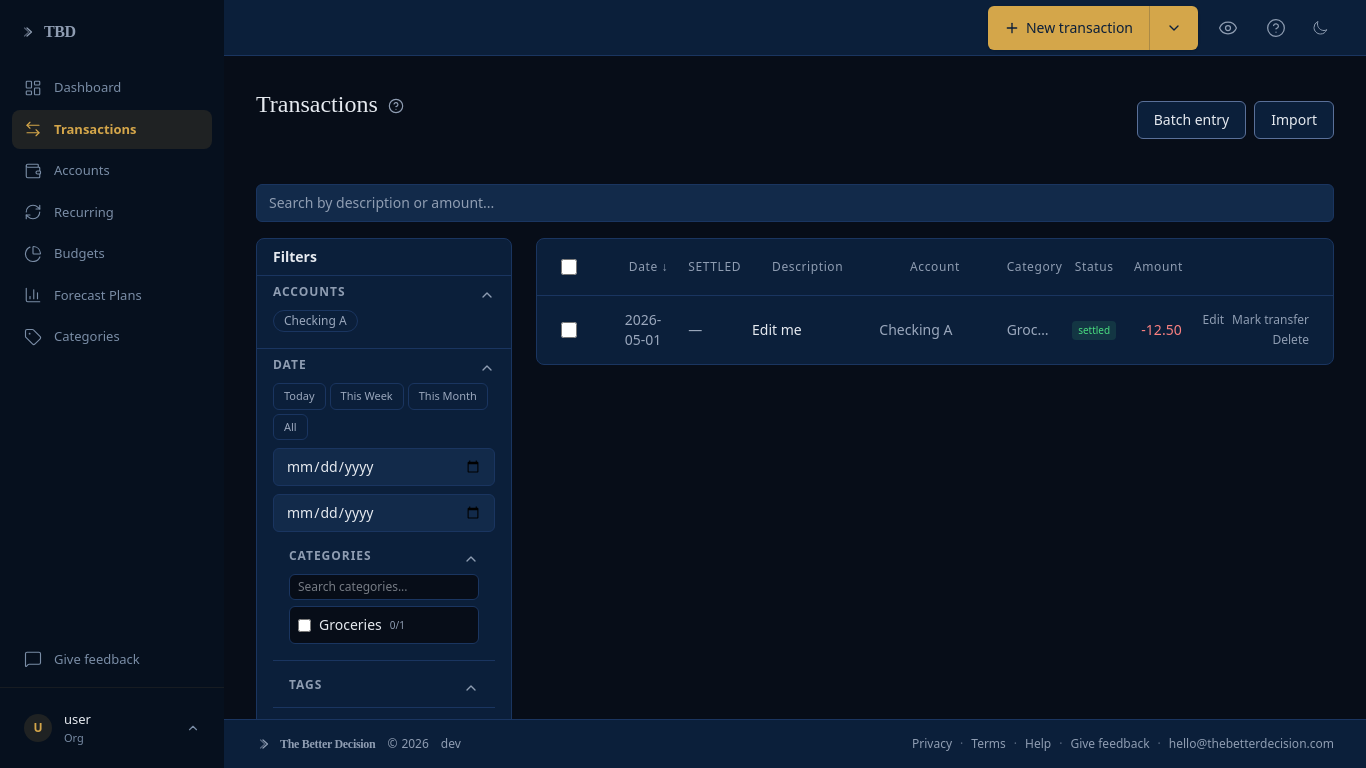
TransactionsPage - edit row layout (Punch-list Item 7) › desktop edit form renders all 7 inputs as labeled fields, not a clipped 12-col row
Click the button with aria-label "Edit:": {"x": 1213, "y": 320} [1203, 312, 1224, 328]
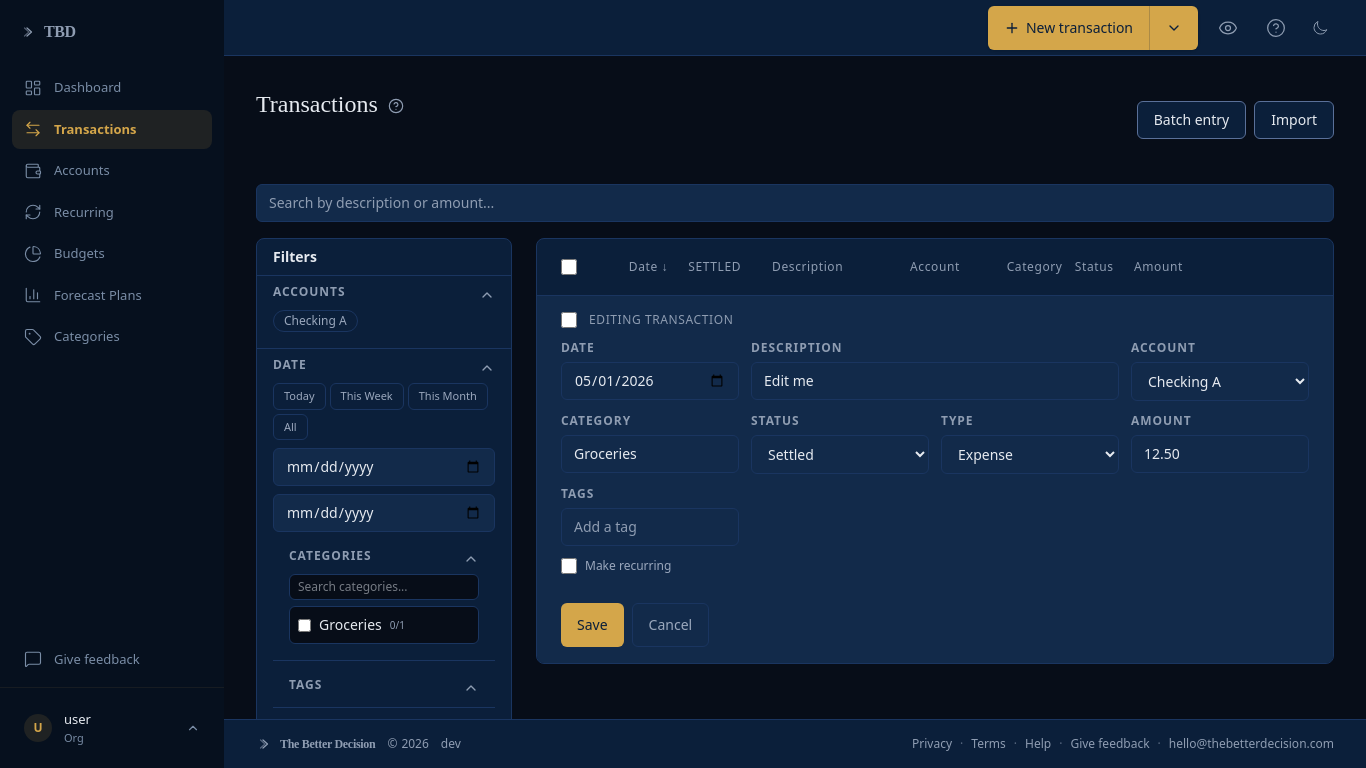
Expected: the element with test id "edit-row-desktop-70" is shown, [537, 296, 1333, 663]
Expected: the date field labelled "Date" is shown, [561, 362, 739, 400]
Expected: the field labelled "Description" is shown, [751, 362, 1119, 400]
